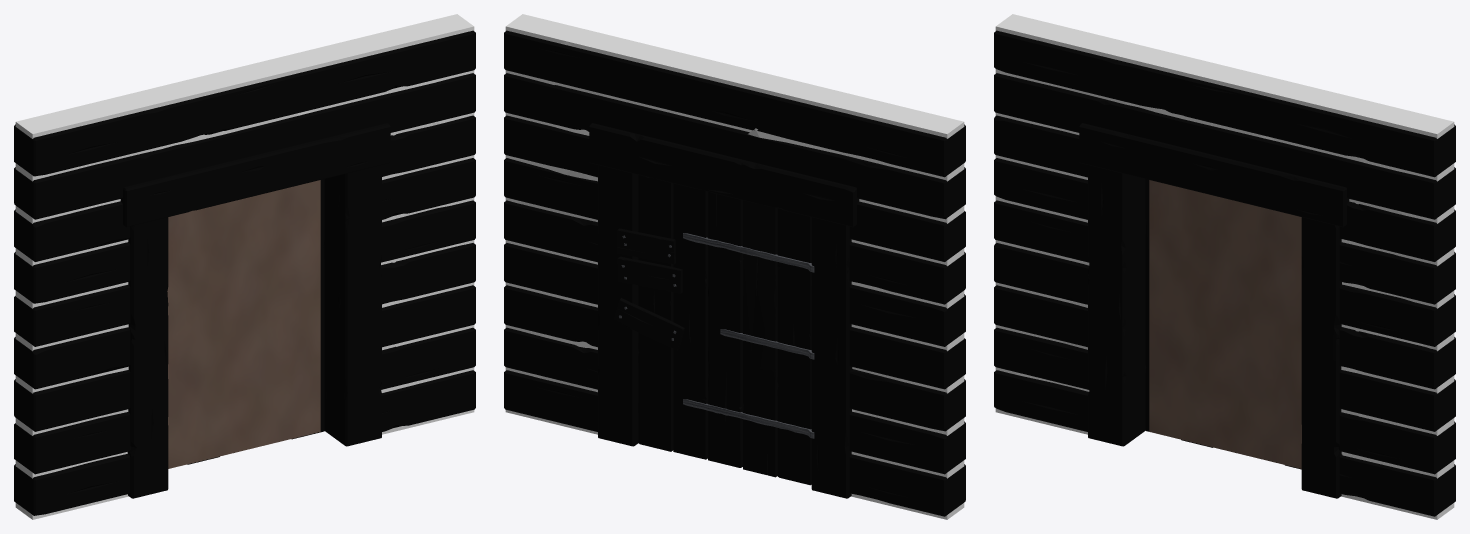
Rendered from log_wall_door.fbx.
3 renders of one model, left to right at view 1: azimuth 30°, elevation 25°; view 2: azimuth 150°, elevation 25°; view 3: azimuth 330°, elevation 25°, orthographic.
Parts seen in each view (by area): view 1: Cube, Frame, Log.008, Support, Log.007, Log.004, Log.001, Log.003, Log.005, Log, Log.002, Log.006 (+1 smaller); view 2: Door, Frame, Log.008, Support, Log.007, Log.003, Log.004, Log, Log.002, Log.001, Log.005, Log.006 (+6 smaller); view 3: Cube, Frame, Log.008, Support, Log.007, Log.004, Log.001, Log.003, Log.005, Log, Log.002, Log.006 (+1 smaller).
Boxes of the visible parts, <box> form: Cube: <box>167,180,320,468</box>; Frame: <box>120,123,390,498</box>; Log.008: <box>14,30,475,176</box>; Support: <box>15,14,474,519</box>; Log.007: <box>14,73,475,219</box>; Log.004: <box>14,200,475,346</box>; Log.001: <box>14,327,475,474</box>; Log.003: <box>14,243,475,389</box>; Log.005: <box>14,158,475,303</box>; Log: <box>14,370,475,515</box>; Log.002: <box>14,285,475,431</box>; Log.006: <box>14,115,475,261</box>; Door: <box>638,175,811,485</box>; Frame: <box>589,123,859,498</box>; Log.008: <box>504,30,965,177</box>; Support: <box>505,14,964,519</box>; Log.007: <box>504,73,965,219</box>; Log.003: <box>504,243,965,389</box>; Log.004: <box>504,200,965,346</box>; Log: <box>504,370,965,516</box>; Log.002: <box>504,285,965,431</box>; Log.001: <box>504,327,965,474</box>; Log.005: <box>504,158,965,304</box>; Log.006: <box>504,115,965,261</box>; Cube: <box>1149,180,1301,468</box>; Frame: <box>1079,123,1349,498</box>; Log.008: <box>994,30,1455,177</box>; Support: <box>995,14,1454,519</box>; Log.007: <box>994,73,1455,219</box>; Log.004: <box>994,200,1455,346</box>; Log.001: <box>994,327,1455,474</box>; Log.003: <box>994,243,1455,389</box>; Log.005: <box>994,158,1455,304</box>; Log: <box>994,370,1455,516</box>; Log.002: <box>994,285,1455,431</box>; Log.006: <box>994,115,1455,261</box>.
Size of the model in its own units: 1200 by 1000 by 139.
22 materials, 21 textured.
